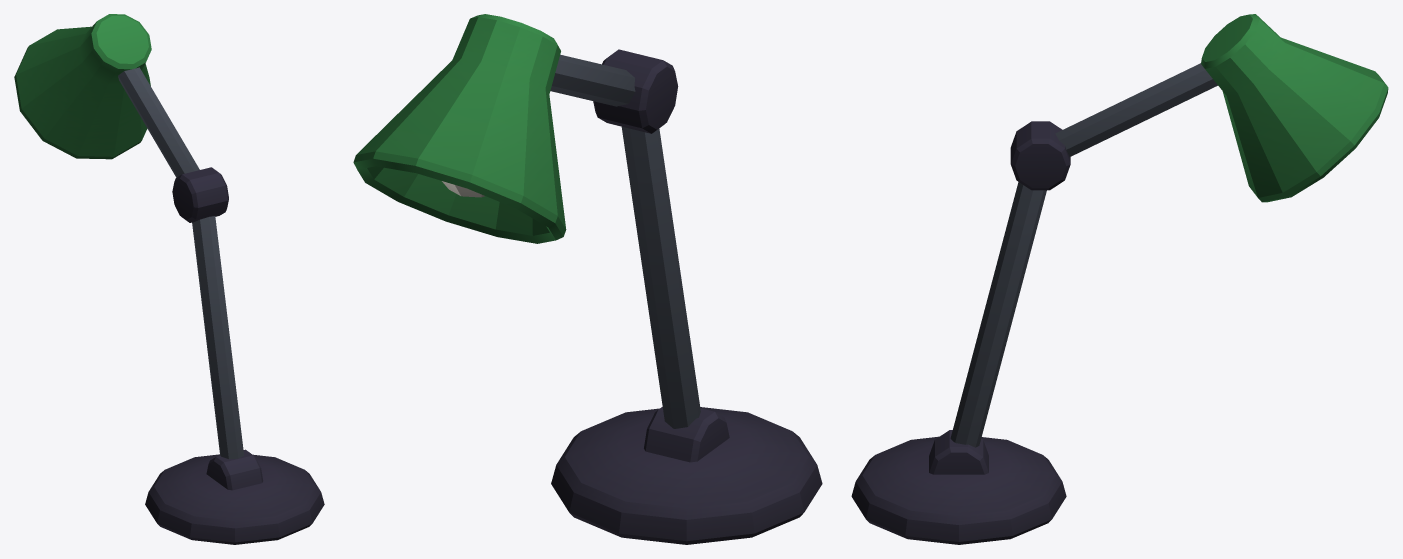
The model's file is Desk_Lamp.fbx.
3 renders of one model, left to right at view 1: azimuth 30°, elevation 25°; view 2: azimuth 150°, elevation 25°; view 3: azimuth 270°, elevation 25°, orthographic. The views are drawn at different scales.
Parts seen in each view (by area): view 1: Desk_Lamp; view 2: Desk_Lamp; view 3: Desk_Lamp.
Boxes of the visible parts, bbox=[...] form: Desk_Lamp: bbox=[14, 14, 324, 544]; Desk_Lamp: bbox=[353, 14, 822, 544]; Desk_Lamp: bbox=[851, 14, 1388, 544].
Size of the model in its own units: 0.7113 by 1.76 by 1.78.
1 material, 1 textured.
